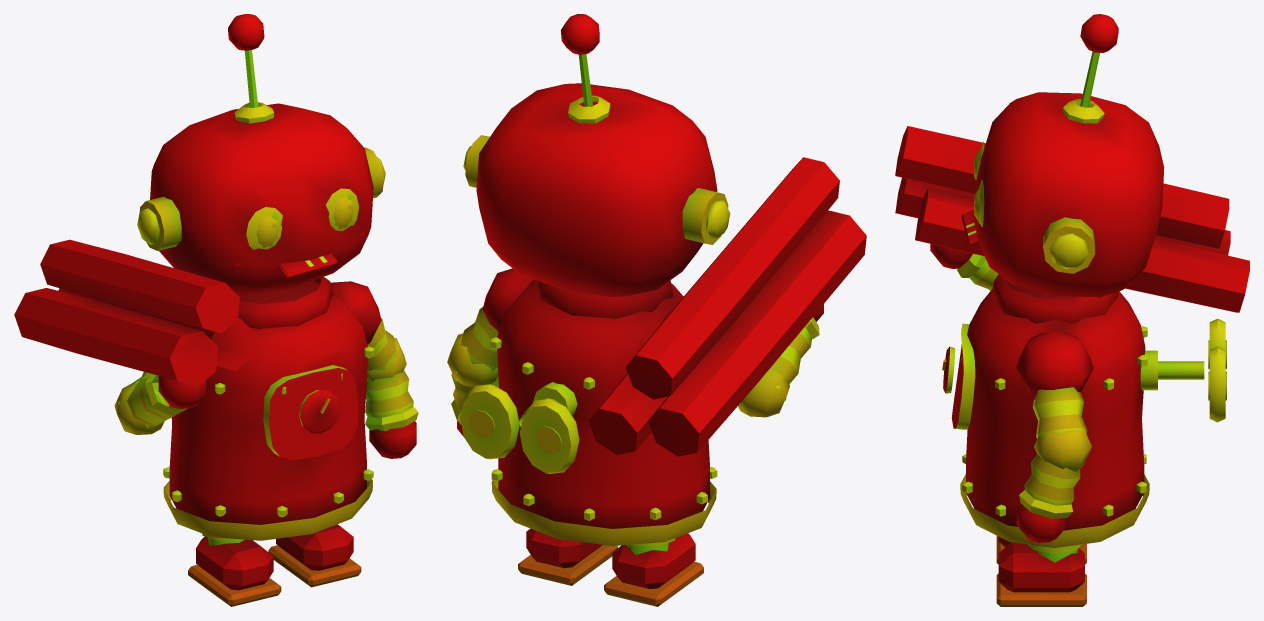
The model's file is RobotWorker_carry_wood.glb.
3 views of the same model, side by side, from view 1: azimuth 30°, elevation 25°; view 2: azimuth 150°, elevation 25°; view 3: azimuth 270°, elevation 25° (orthographic). The views are drawn at different scales.
Parts seen in each view (by area): view 1: RobotWorker_carry_wood; view 2: RobotWorker_carry_wood; view 3: RobotWorker_carry_wood.
Part boxes in pixels (box(x1,y1,x2,y2)): RobotWorker_carry_wood: box(14, 14, 418, 606); RobotWorker_carry_wood: box(447, 14, 866, 606); RobotWorker_carry_wood: box(895, 14, 1249, 606).
Bounding box in the file's own units: 0.5661 × 0.93 × 0.5346.
